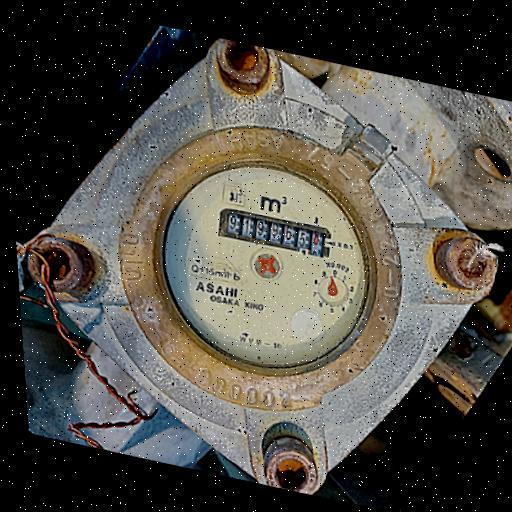1: (240, 215, 254, 237)
5: (296, 226, 310, 248)
6: (282, 223, 296, 244)
8: (308, 230, 323, 256)
9: (225, 211, 241, 234), (254, 218, 268, 240), (268, 220, 282, 241)
border_water_meter_number: (215, 203, 335, 260)
